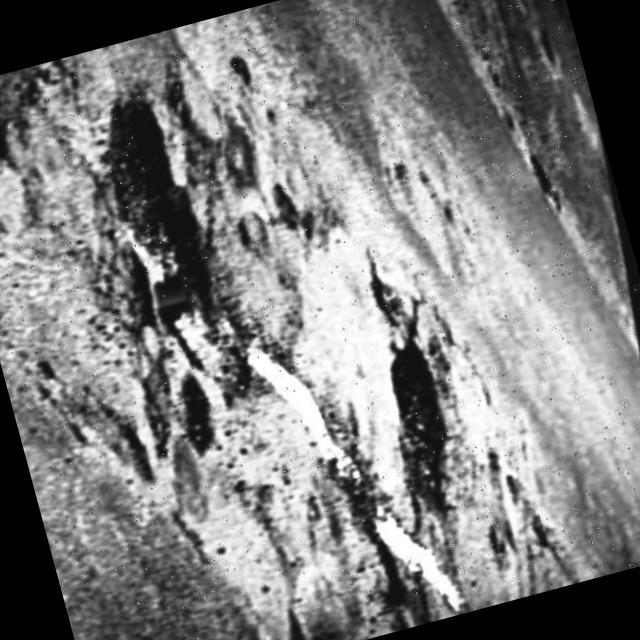Pothole: (69, 66, 266, 371), (365, 320, 491, 526)
